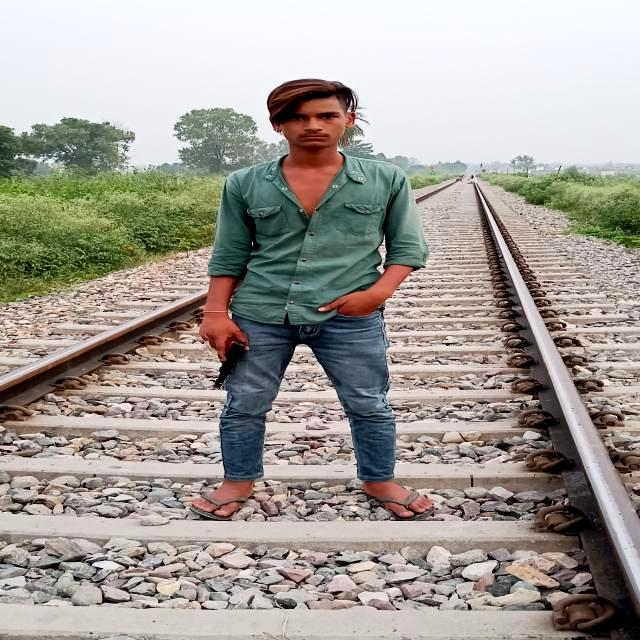pistol: (200, 328, 248, 392)
